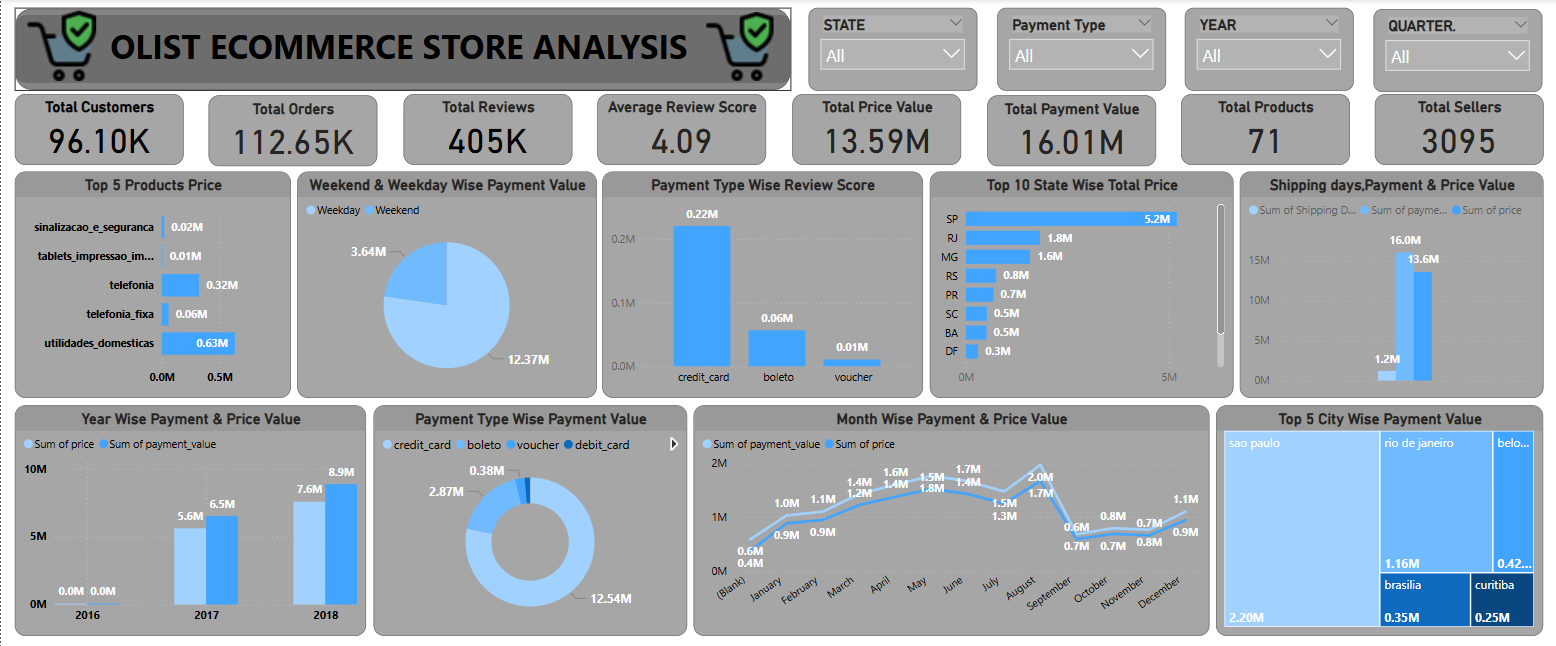

The page's visual inventory and layout, read from the dashboard file:
{"tool":"powerbi","page":{"name":"DASHBOARD","canvas":[1880,900],"ordinal":3},"visuals":[{"type":"barChart","title":"Top 5 Products Price","fields":{"Category":["olist_products_dataset.product_category_name"],"Y":["Sum(olist_order_items_dataset.price)"]},"box":[15,195,311.2,255],"z":0},{"type":"shape","box":[15,10,875,93.8],"z":1000},{"type":"card","title":"Total Customers","fields":{"Values":["Count(olist_customers_dataset.customer_unique_id)"]},"box":[15.5,107.1,190,80],"z":2000},{"type":"card","title":"Total Orders","fields":{"Values":["CountNonNull(olist_order_items_dataset.order_id)"]},"box":[234.4,108.3,190,80],"z":3000},{"type":"card","title":"Total Reviews","fields":{"Values":["Sum(olist_order_reviews_dataset.review_score)"]},"box":[453.3,107.1,190,80],"z":4000},{"type":"card","title":"Total Price Value","fields":{"Values":["Sum(olist_order_items_dataset.price)"]},"box":[891.6,107.1,190.5,80],"z":5000},{"type":"card","title":"Total Payment Value","fields":{"Values":["Sum(olist_order_payments_dataset.payment_value)"]},"box":[1110.9,108.3,190,80],"z":6000},{"type":"card","title":"Average Review Score","fields":{"Values":["Avg(olist_order_reviews_dataset.review_score)"]},"box":[672.2,107.1,190.5,80],"z":7000},{"type":"card","title":"Total Products","fields":{"Values":["Count(product_category_name_translation.product_category_name)"]},"box":[1329.8,107.1,190,80],"z":8000},{"type":"card","title":"Total Sellers","fields":{"Values":["CountNonNull(olist_sellers_dataset.seller_id)"]},"box":[1548.8,107.5,190,80],"z":9000},{"type":"pieChart","title":" Weekend & Weekday Wise Payment Value","fields":{"Category":["olist_orders_dataset.WeekendOrWeekday"],"Y":["Sum(olist_order_payments_dataset.payment_value)"]},"box":[333.4,195,337.5,255],"z":10000},{"type":"columnChart","title":" Payment Type Wise Review Score","fields":{"Category":["olist_order_payments_dataset.payment_type"],"Y":["Sum(olist_order_reviews_dataset.review_score)"]},"box":[678.1,195,361.2,255],"z":11000},{"type":"clusteredBarChart","title":"Top 10 State Wise Total Price","fields":{"Category":["olist_customers_dataset.customer_state"],"Y":["Sum(olist_order_items_dataset.price)"]},"box":[1046.6,195,342.5,255],"z":12000},{"type":"clusteredColumnChart","title":"Year Wise Payment & Price Value","fields":{"Category":["olist_orders_dataset.order_delivered_customer_date.Variation.Date Hierarchy.Year"],"Y":["Sum(olist_order_items_dataset.price)","Sum(olist_order_payments_dataset.payment_value)"]},"box":[15,457.5,396.2,260],"z":13000},{"type":"donutChart","title":"Payment Type Wise Payment Value","fields":{"Category":["olist_order_payments_dataset.payment_type"],"Y":["Sum(olist_order_payments_dataset.payment_value)"]},"box":[419.2,457.5,353.8,260],"z":14000},{"type":"lineChart","title":"Month Wise Payment & Price Value","fields":{"Category":["olist_orders_dataset.order_delivered_customer_date.Variation.Date Hierarchy.Month"],"Y":["Sum(olist_order_payments_dataset.payment_value)","Sum(olist_order_items_dataset.price)"]},"box":[780.8,457.5,581.2,260],"z":15000},{"type":"clusteredColumnChart","title":"Shipping days,Payment &  Price Value","fields":{"Y":["Sum(olist_orders_dataset.Shipping Days)","Sum(olist_order_payments_dataset.payment_value)","Sum(olist_order_items_dataset.price)"]},"box":[1396.2,195,342.5,255],"z":16000},{"type":"treemap","title":"Top 5 City Wise Payment Value","fields":{"Group":["olist_customers_dataset.customer_city"],"Values":["Sum(olist_order_payments_dataset.payment_value)"]},"box":[1370,457.5,368.8,260],"z":17000},{"type":"textbox","box":[16.2,18.8,873.8,76.2],"z":18000},{"type":"slicer","title":"States","fields":{"Values":["olist_customers_dataset.customer_state"]},"box":[910,10,190,93.8],"z":19000},{"type":"slicer","fields":{"Values":["olist_order_payments_dataset.payment_type"]},"box":[1122.3,10,190,93.8],"z":20000},{"type":"slicer","fields":{"Values":["olist_orders_dataset.order_delivered_customer_date.Variation.Date Hierarchy.Year"]},"box":[1334.5,10,190,93.8],"z":21000},{"type":"slicer","fields":{"Values":["olist_orders_dataset.order_delivered_customer_date.Variation.Date Hierarchy.Quarter"]},"box":[1546.8,11,190,93.8],"z":22000},{"type":"image","box":[16.2,8.8,102.5,88.8],"z":23000},{"type":"image","box":[781.2,10,102,87],"z":24000}]}

Visuals, with their boxes on the page's 1880x900 design canvas (x1, y1, x2, y2). These are canvas units, not pixel positions in the 1556x646 screenshot, which may show the page scaled, cropped or inside an application window:
"Top 5 Products Price" barChart: 15,195,326,450
shape: 15,10,890,104
"Total Customers" card: 16,107,206,187
"Total Orders" card: 234,108,424,188
"Total Reviews" card: 453,107,643,187
"Total Price Value" card: 892,107,1082,187
"Total Payment Value" card: 1111,108,1301,188
"Average Review Score" card: 672,107,863,187
"Total Products" card: 1330,107,1520,187
"Total Sellers" card: 1549,108,1739,188
" Weekend & Weekday Wise Payment Value" pieChart: 333,195,671,450
" Payment Type Wise Review Score" columnChart: 678,195,1039,450
"Top 10 State Wise Total Price" clusteredBarChart: 1047,195,1389,450
"Year Wise Payment & Price Value" clusteredColumnChart: 15,458,411,718
"Payment Type Wise Payment Value" donutChart: 419,458,773,718
"Month Wise Payment & Price Value" lineChart: 781,458,1362,718
"Shipping days,Payment &  Price Value" clusteredColumnChart: 1396,195,1739,450
"Top 5 City Wise Payment Value" treemap: 1370,458,1739,718
textbox: 16,19,890,95
"States" slicer: 910,10,1100,104
slicer - olist_order_payments_dataset.payment_type: 1122,10,1312,104
slicer - olist_orders_dataset.order_delivered_customer_date.Variation.Date Hierarchy.Year: 1334,10,1524,104
slicer - olist_orders_dataset.order_delivered_customer_date.Variation.Date Hierarchy.Quarter: 1547,11,1737,105
image: 16,9,119,98
image: 781,10,883,97
